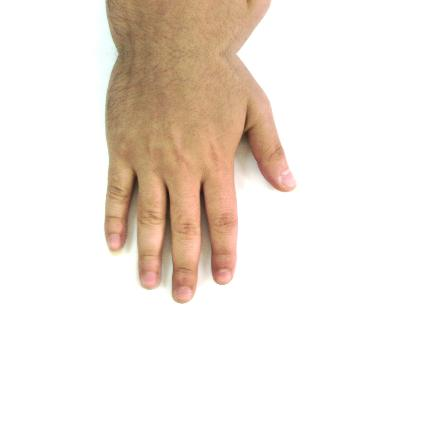Nail: (106, 234, 123, 256), (172, 287, 193, 303), (281, 168, 297, 188), (140, 272, 158, 289), (216, 269, 232, 285)
